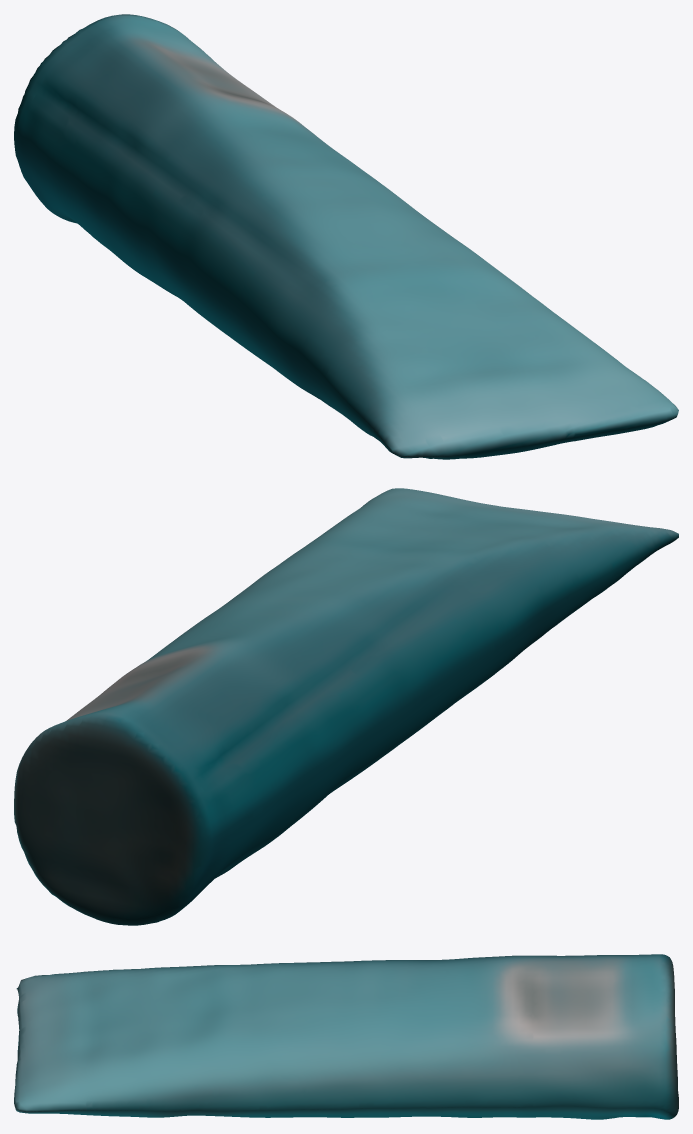
The model's file is oil.glb.
3 views of the same model, one above another, from view 1: azimuth 30°, elevation 25°; view 2: azimuth 150°, elevation 25°; view 3: azimuth 270°, elevation 25° (orthographic). The views are drawn at different scales.
Size of the model in its own units: 0.3821 by 0.2569 by 0.9992.
